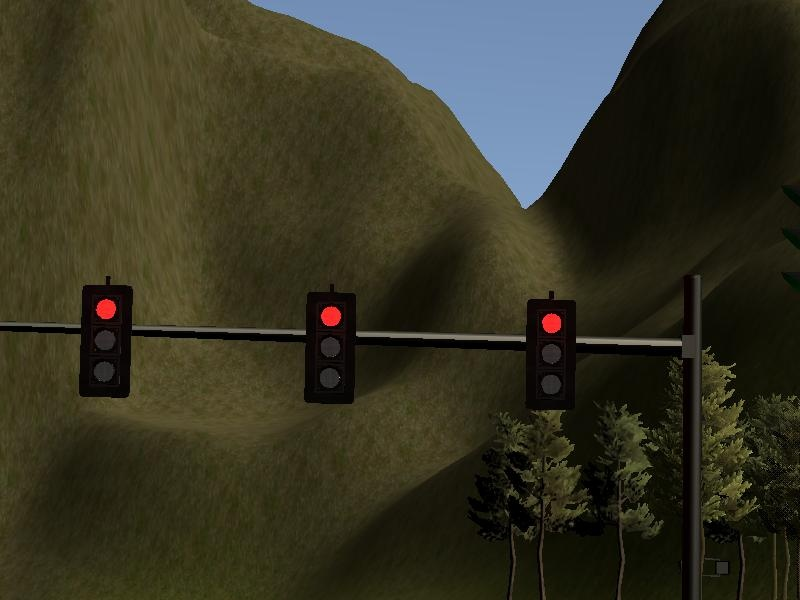RED: (78, 286, 133, 397), (301, 292, 356, 403), (523, 297, 578, 408)
